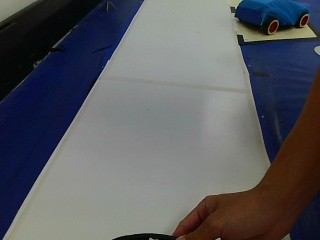car: (229, 1, 317, 39)
